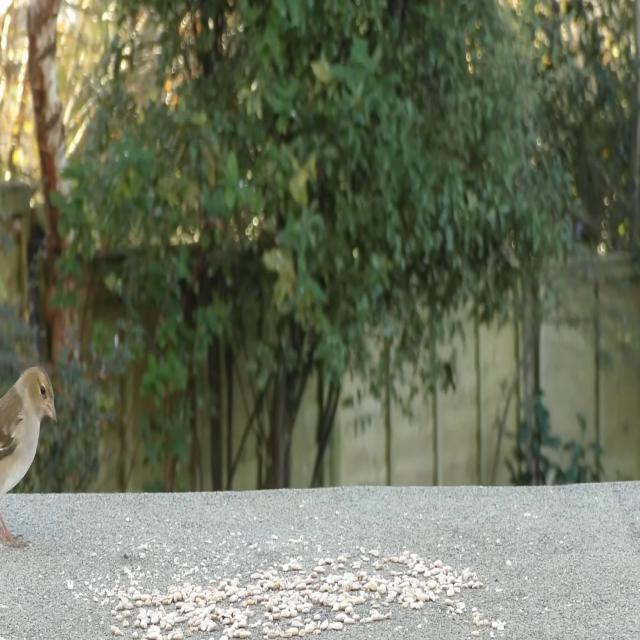beak: (43, 394, 58, 426)
bird: (0, 367, 57, 555)
